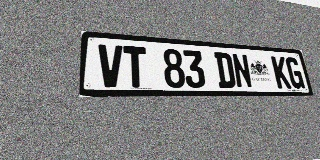3: (183, 50, 206, 88)
8: (162, 48, 186, 88)
D: (214, 52, 236, 88)
G: (285, 57, 305, 89)
K: (271, 56, 292, 89)
N: (231, 53, 253, 88)
T: (123, 46, 148, 88)
V: (98, 44, 123, 87)
